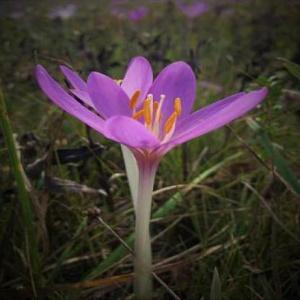Saffron: (34, 56, 268, 172)
